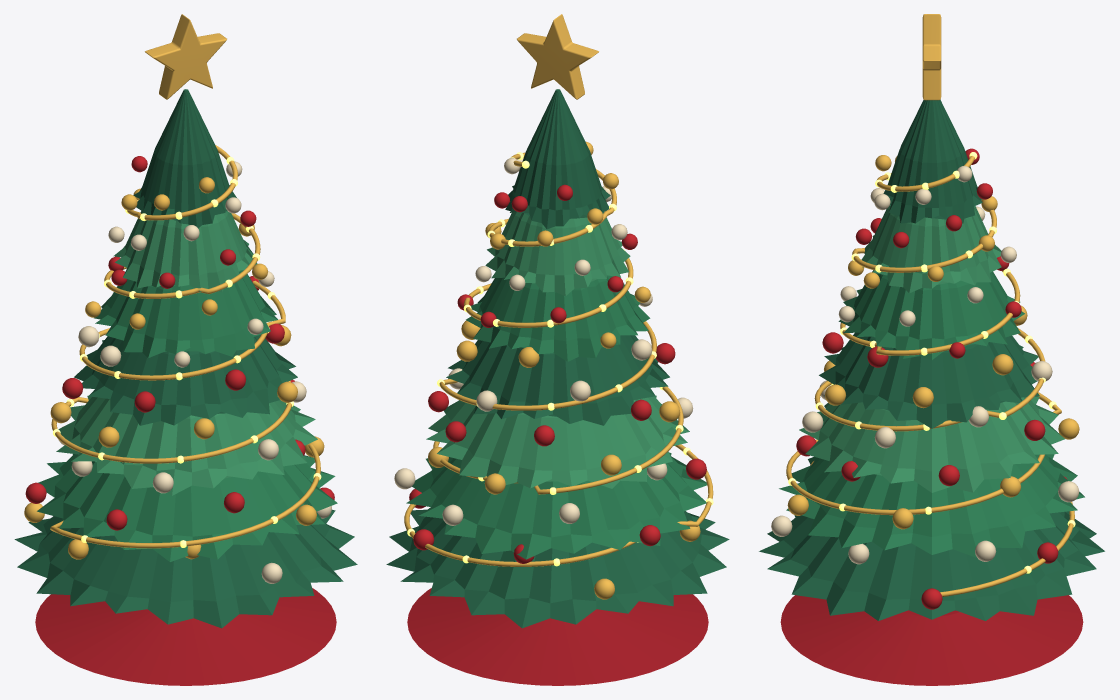
The model's file is christmas-tree.glb.
3 views of the same model, side by side, from view 1: azimuth 30°, elevation 25°; view 2: azimuth 150°, elevation 25°; view 3: azimuth 270°, elevation 25° (orthographic).
Parts seen in each view (by area): view 1: Foliage tier 00, Skirt scalloped base, Foliage tier 01, Foliage tier 02, Foliage tier 03, Foliage tier 04, Foliage tier 06, Foliage tier 05, Gold garland, Bauble 01, Bauble 02, Bauble 00 (+2 smaller); view 2: Foliage tier 00, Skirt scalloped base, Foliage tier 01, Foliage tier 02, Foliage tier 03, Foliage tier 04, Foliage tier 06, Foliage tier 05, Gold garland, Bauble 00, Bauble 01, Bauble 02 (+2 smaller); view 3: Foliage tier 00, Skirt scalloped base, Foliage tier 01, Foliage tier 02, Foliage tier 03, Foliage tier 04, Foliage tier 06, Foliage tier 05, Gold garland, Bauble 02, Bauble 00, Bauble 01 (+2 smaller).
Part boxes in pixels (x1,y1,x2,y2): Foliage tier 00: [14, 509, 357, 628]; Skirt scalloped base: [35, 588, 336, 685]; Foliage tier 01: [37, 454, 337, 561]; Foliage tier 02: [56, 395, 317, 495]; Foliage tier 03: [74, 334, 297, 425]; Foliage tier 04: [94, 270, 277, 358]; Foliage tier 06: [133, 89, 236, 228]; Foliage tier 05: [113, 211, 257, 292]; Gold garland: [50, 145, 320, 548]; Bauble 01: [24, 177, 324, 559]; Bauble 02: [58, 161, 331, 583]; Bauble 00: [25, 156, 334, 530]; Foliage tier 00: [386, 509, 729, 628]; Skirt scalloped base: [407, 588, 708, 685]; Foliage tier 01: [406, 452, 706, 559]; Foliage tier 02: [426, 395, 689, 488]; Foliage tier 03: [446, 335, 669, 425]; Foliage tier 04: [466, 275, 650, 361]; Foliage tier 06: [505, 89, 610, 229]; Foliage tier 05: [485, 211, 630, 296]; Gold garland: [404, 152, 713, 566]; Bauble 00: [409, 184, 706, 563]; Bauble 01: [428, 141, 700, 599]; Bauble 02: [394, 158, 693, 525]; Foliage tier 00: [759, 511, 1104, 620]; Skirt scalloped base: [780, 595, 1083, 685]; Foliage tier 01: [779, 454, 1084, 557]; Foliage tier 02: [799, 396, 1064, 492]; Foliage tier 03: [819, 332, 1039, 428]; Foliage tier 04: [838, 270, 1024, 360]; Foliage tier 06: [883, 100, 982, 223]; Foliage tier 05: [861, 205, 1001, 293]; Gold garland: [786, 156, 1074, 596]; Bauble 02: [771, 165, 1079, 564]; Bauble 00: [796, 148, 1067, 609]; Bauble 01: [787, 155, 1079, 529].
Bounding box in the file's own units: 1.56 × 3.02 × 1.56.
